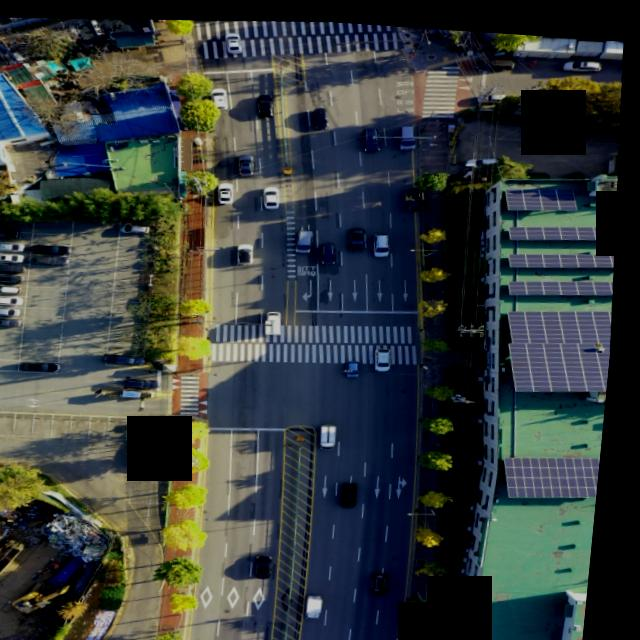car: (568, 114, 600, 136), (475, 49, 517, 65), (562, 49, 604, 64), (110, 351, 152, 365), (380, 340, 401, 367), (362, 120, 383, 146), (264, 548, 285, 573), (398, 119, 418, 145), (349, 475, 368, 501), (212, 83, 233, 106), (376, 226, 396, 250), (352, 222, 372, 246), (0, 249, 30, 265), (27, 359, 66, 371), (240, 239, 260, 262), (298, 223, 317, 247), (37, 253, 72, 266), (35, 241, 72, 253), (132, 374, 166, 387), (313, 99, 332, 122), (257, 89, 275, 113), (381, 566, 400, 588), (240, 150, 259, 172), (264, 182, 282, 205), (0, 238, 29, 252), (467, 149, 502, 160), (323, 236, 340, 258), (219, 180, 237, 200), (224, 29, 242, 49), (0, 262, 30, 274), (124, 220, 153, 232), (0, 271, 29, 283), (0, 283, 29, 295), (0, 293, 28, 305), (0, 304, 27, 316), (0, 316, 27, 328), (477, 84, 506, 95), (0, 226, 24, 238), (352, 353, 367, 371)
medium_truck: (0, 534, 40, 586)
small_truck: (323, 417, 346, 443), (267, 304, 288, 331), (404, 180, 425, 205), (315, 588, 335, 614)
